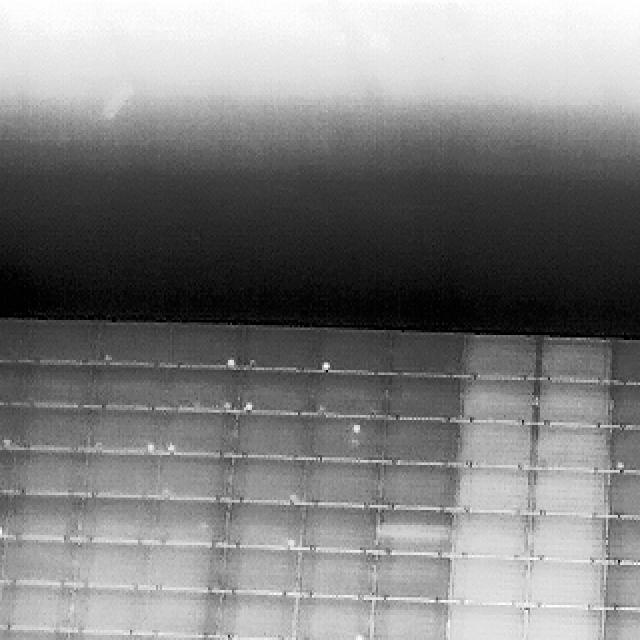Hotspots: (232, 399, 252, 415), (348, 625, 368, 640), (610, 455, 629, 470), (224, 352, 240, 369), (284, 534, 296, 550), (166, 442, 179, 456), (321, 358, 333, 372), (144, 441, 155, 452)
PV-modules: (2, 406, 97, 454), (0, 319, 95, 366), (378, 418, 463, 466), (3, 451, 89, 498), (379, 462, 463, 510), (218, 548, 300, 597), (4, 362, 96, 405), (0, 493, 82, 540), (450, 556, 527, 606), (450, 514, 530, 562), (227, 500, 306, 548), (77, 495, 155, 543), (218, 592, 296, 640), (246, 326, 324, 374), (152, 497, 228, 546), (230, 459, 309, 506), (298, 551, 375, 599), (300, 504, 378, 551), (143, 590, 219, 638), (524, 560, 600, 608), (90, 453, 166, 501), (385, 373, 464, 419), (458, 420, 532, 469), (532, 470, 606, 519), (242, 366, 319, 413), (529, 518, 604, 566), (456, 469, 531, 517), (313, 370, 388, 418), (70, 588, 145, 636), (379, 510, 454, 558), (308, 460, 382, 508), (2, 582, 76, 630), (375, 554, 453, 599), (72, 542, 148, 588), (94, 408, 168, 455), (150, 544, 222, 592), (2, 540, 77, 586), (98, 322, 173, 368), (168, 364, 244, 409), (460, 336, 537, 380), (294, 597, 372, 640), (320, 331, 394, 376), (172, 323, 246, 368), (160, 458, 232, 504), (536, 338, 608, 384), (95, 363, 172, 406), (534, 425, 609, 469), (539, 381, 610, 427), (460, 380, 534, 424), (234, 413, 306, 458), (394, 332, 469, 375), (308, 418, 381, 461), (167, 411, 235, 457), (370, 600, 448, 640), (448, 605, 526, 640), (520, 607, 598, 640), (598, 560, 640, 608), (600, 520, 640, 568), (600, 472, 640, 518), (604, 337, 640, 385), (608, 382, 640, 430), (608, 425, 640, 470), (596, 610, 640, 640), (70, 627, 142, 640), (2, 627, 72, 640), (138, 632, 214, 640), (212, 635, 292, 640)
